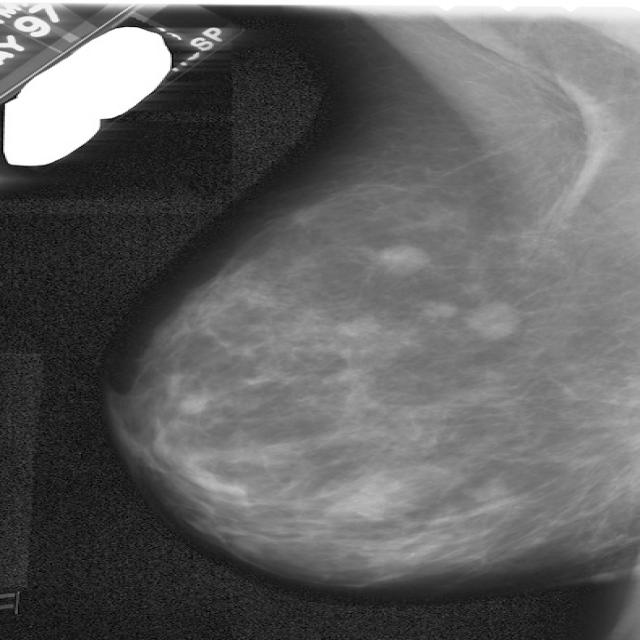tumour: (462, 302, 514, 342), (378, 244, 428, 272)
